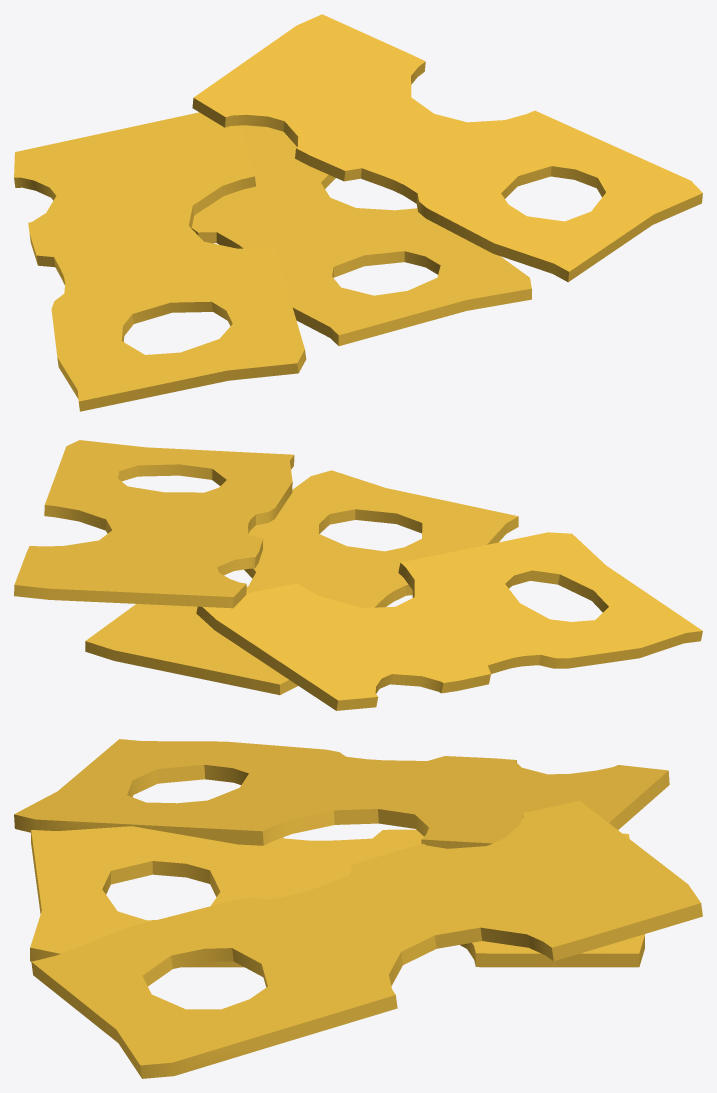
The model's file is CheeseSlices_Visual.glb.
3 views of the same model, one above another, from view 1: azimuth 30°, elevation 25°; view 2: azimuth 150°, elevation 25°; view 3: azimuth 270°, elevation 25° (orthographic). The views are drawn at different scales.
Parts seen in each view (by area): view 1: Cheese_slice; view 2: Cheese_slice; view 3: Cheese_slice.
Boxes of the visible parts, x1=… form: Cheese_slice: x1=14, y1=14, x2=702, y2=411; Cheese_slice: x1=14, y1=440, x2=702, y2=710; Cheese_slice: x1=14, y1=739, x2=702, y2=1078.
Bounding box in the file's own units: 0.8255 × 0.1395 × 0.6208.
Materials: 1 (1 with a texture image).
